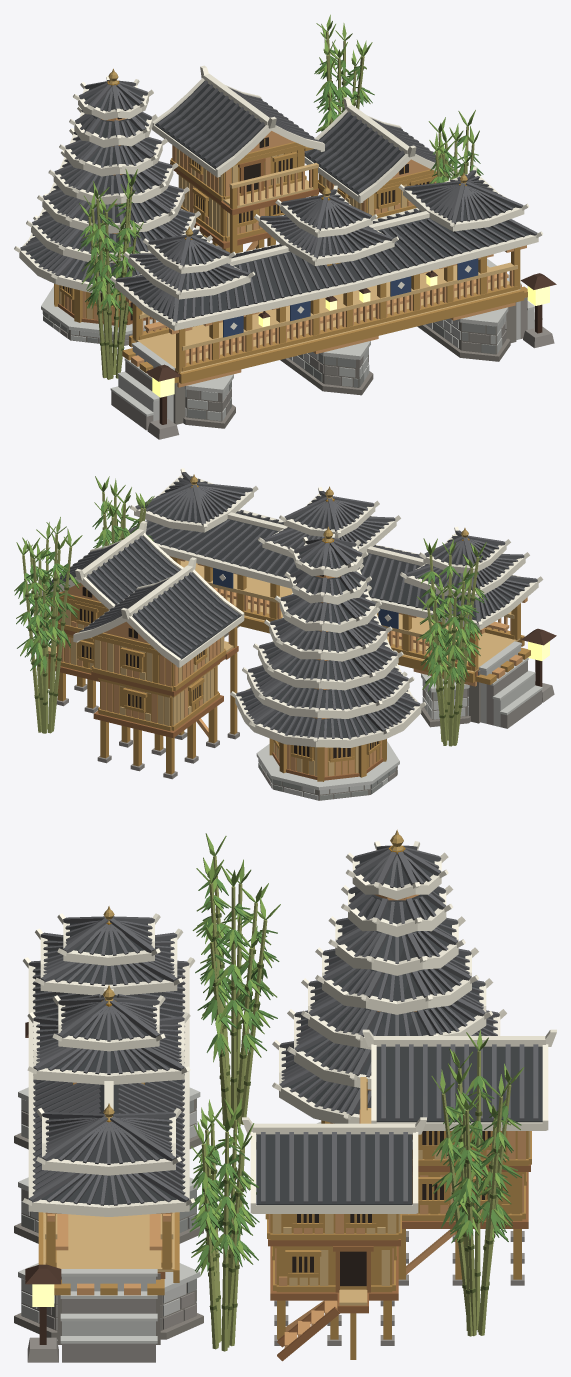
The model's file is drum_tower_village.glb.
The picture shows the model from 3 angles, top to bottom: view 1: azimuth 30°, elevation 25°; view 2: azimuth 150°, elevation 25°; view 3: azimuth 270°, elevation 25°; orthographic projection. The views are drawn at different scales.
Parts seen in each view (by area): view 1: drum_tower_village_DT_RoofCharcoalEdge, drum_tower_village_DT_Porcelain, drum_tower_village_DT_RoofCharcoal, drum_tower_village_DT_FirShade, drum_tower_village_DT_Fir, drum_tower_village_DT_FirWarm, drum_tower_village_DT_LeafFreshLight, drum_tower_village_DT_Culm, drum_tower_village_DT_PierJoint, drum_tower_village_DT_LeafFresh, drum_tower_village_DT_PierStoneTop, drum_tower_village_DT_PierStone (+8 smaller); view 2: drum_tower_village_DT_RoofCharcoalEdge, drum_tower_village_DT_Porcelain, drum_tower_village_DT_RoofCharcoal, drum_tower_village_DT_FirShade, drum_tower_village_DT_Culm, drum_tower_village_DT_FirWarm, drum_tower_village_DT_Fir, drum_tower_village_DT_LeafFresh, drum_tower_village_DT_LeafFreshLight, drum_tower_village_DT_PierStoneTop, drum_tower_village_DT_FirDark, drum_tower_village_DT_PierStoneMid (+7 smaller); view 3: drum_tower_village_DT_RoofCharcoalEdge, drum_tower_village_DT_Porcelain, drum_tower_village_DT_RoofCharcoal, drum_tower_village_DT_FirShade, drum_tower_village_DT_Culm, drum_tower_village_DT_LeafFresh, drum_tower_village_DT_LeafFreshLight, drum_tower_village_DT_Fir, drum_tower_village_DT_PierStoneMid, drum_tower_village_DT_FirDark, drum_tower_village_DT_FirWarm, drum_tower_village_DT_PierStone (+9 smaller).
Part boxes in pixels (box(x1,y1,x2,y2)): drum_tower_village_DT_RoofCharcoalEdge: box(20, 80, 537, 322); drum_tower_village_DT_Porcelain: box(14, 65, 542, 330); drum_tower_village_DT_RoofCharcoal: box(26, 81, 529, 320); drum_tower_village_DT_FirShade: box(54, 118, 527, 383); drum_tower_village_DT_Fir: box(59, 148, 519, 372); drum_tower_village_DT_FirWarm: box(65, 118, 526, 387); drum_tower_village_DT_LeafFreshLight: box(79, 14, 479, 314); drum_tower_village_DT_Culm: box(88, 31, 474, 379); drum_tower_village_DT_PierJoint: box(43, 302, 516, 428); drum_tower_village_DT_LeafFresh: box(78, 49, 483, 315); drum_tower_village_DT_PierStoneTop: box(41, 258, 542, 416); drum_tower_village_DT_PierStone: box(42, 286, 534, 422); drum_tower_village_DT_RoofCharcoalEdge: box(37, 472, 537, 739); drum_tower_village_DT_Porcelain: box(37, 468, 543, 747); drum_tower_village_DT_RoofCharcoal: box(51, 477, 529, 737); drum_tower_village_DT_FirShade: box(48, 556, 530, 781); drum_tower_village_DT_Culm: box(22, 492, 478, 746); drum_tower_village_DT_FirWarm: box(58, 556, 527, 776); drum_tower_village_DT_Fir: box(48, 560, 520, 776); drum_tower_village_DT_LeafFresh: box(14, 501, 487, 691); drum_tower_village_DT_LeafFreshLight: box(14, 476, 486, 689); drum_tower_village_DT_PierStoneTop: box(256, 641, 542, 790); drum_tower_village_DT_FirDark: box(48, 625, 517, 780); drum_tower_village_DT_PierStoneMid: box(56, 660, 541, 786); drum_tower_village_DT_RoofCharcoalEdge: box(28, 845, 538, 1205); drum_tower_village_DT_Porcelain: box(22, 841, 556, 1216); drum_tower_village_DT_RoofCharcoal: box(35, 857, 542, 1205); drum_tower_village_DT_FirShade: box(38, 1079, 531, 1359); drum_tower_village_DT_Culm: box(201, 856, 511, 1351); drum_tower_village_DT_LeafFresh: box(189, 878, 521, 1272); drum_tower_village_DT_LeafFreshLight: box(191, 833, 524, 1275); drum_tower_village_DT_Fir: box(43, 1077, 530, 1305); drum_tower_village_DT_PierStoneMid: box(21, 1111, 524, 1362); drum_tower_village_DT_FirDark: box(157, 1110, 530, 1361); drum_tower_village_DT_FirWarm: box(45, 894, 525, 1348); drum_tower_village_DT_PierStone: box(21, 1098, 196, 1335).
Bounding box in the file's own units: 3.95 × 2.36 × 3.47.
